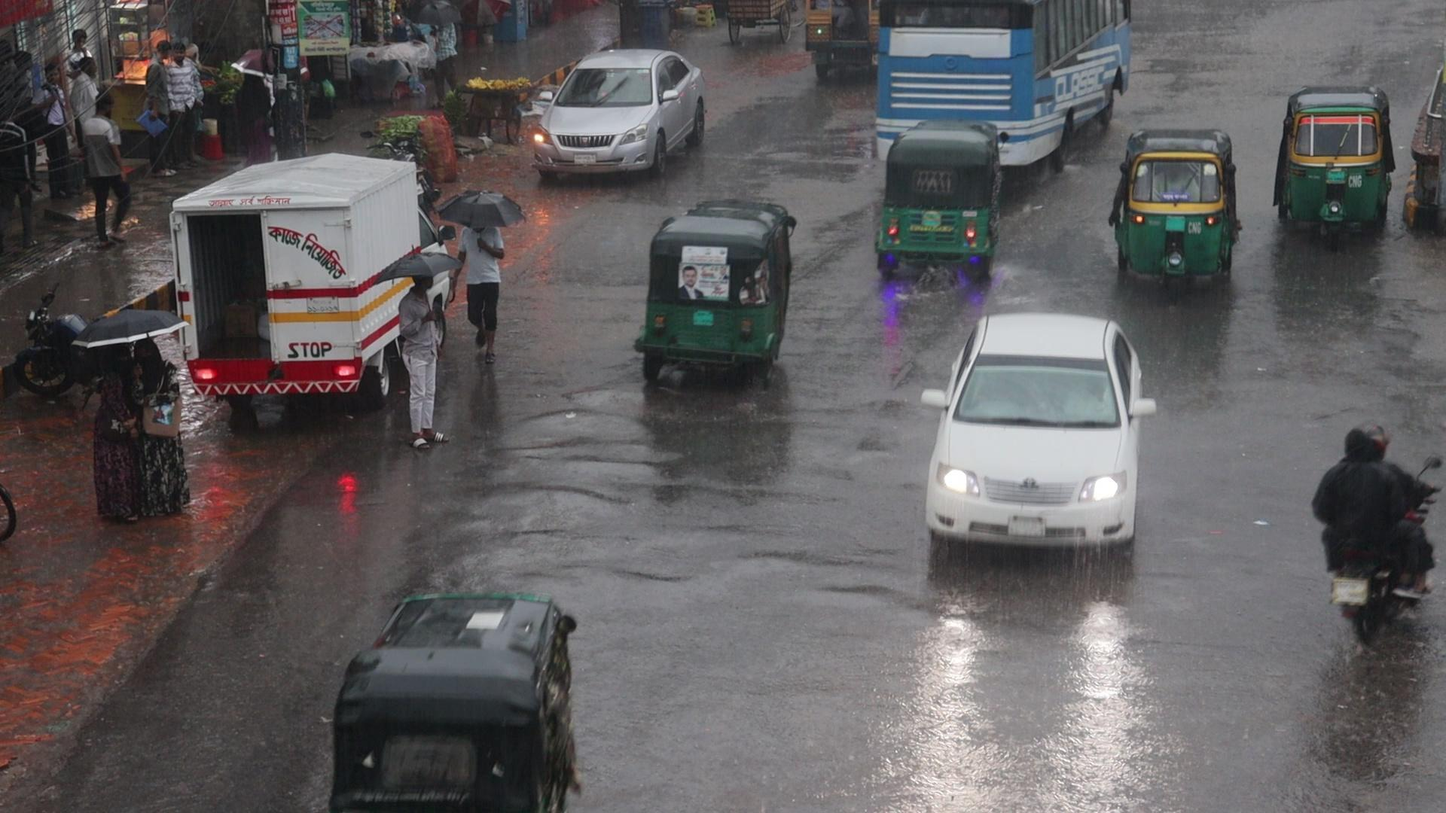Bike: (1309, 417, 1442, 639)
Car: (921, 313, 1154, 563), (532, 48, 706, 179)
